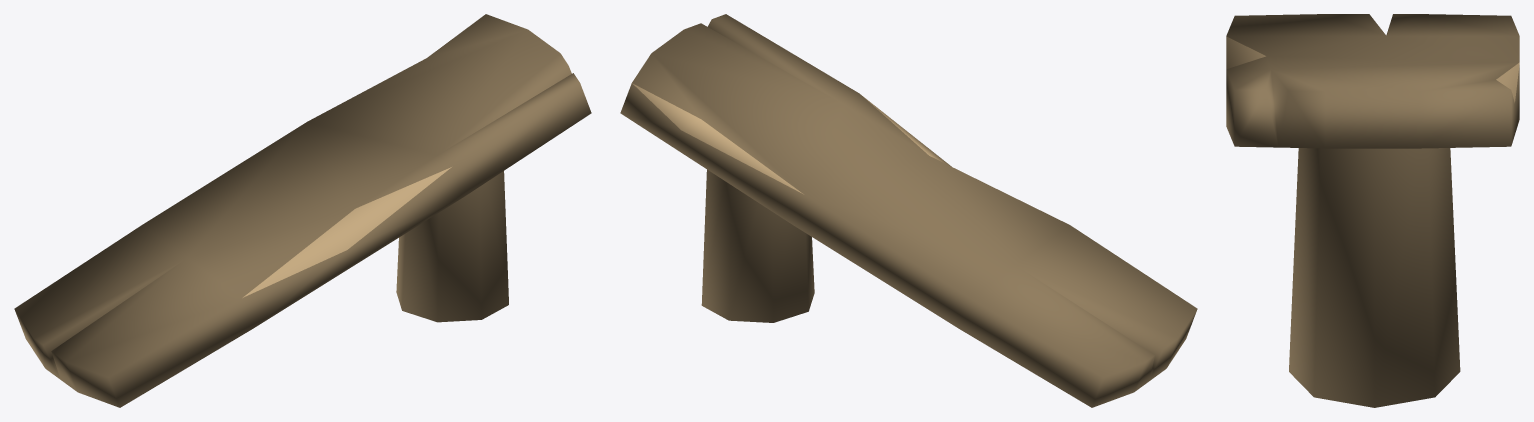
Rendered from rpgpp_av_bench_wood_03a.gltf.
The picture shows the model from 3 angles, left to right: view 1: azimuth 30°, elevation 25°; view 2: azimuth 150°, elevation 25°; view 3: azimuth 270°, elevation 25°; orthographic projection. The views are drawn at different scales.
Visible parts, largest first — view 1: rpgpp_av_bench_wood_03a; view 2: rpgpp_av_bench_wood_03a; view 3: rpgpp_av_bench_wood_03a.
Part boxes in pixels (x1=…): rpgpp_av_bench_wood_03a: x1=14, y1=14, x2=591, y2=407; rpgpp_av_bench_wood_03a: x1=620, y1=14, x2=1197, y2=407; rpgpp_av_bench_wood_03a: x1=1226, y1=14, x2=1519, y2=407.
Bounding box in the file's own units: 0.0119 × 0.00529 × 0.00408.
1 material, 1 textured.
